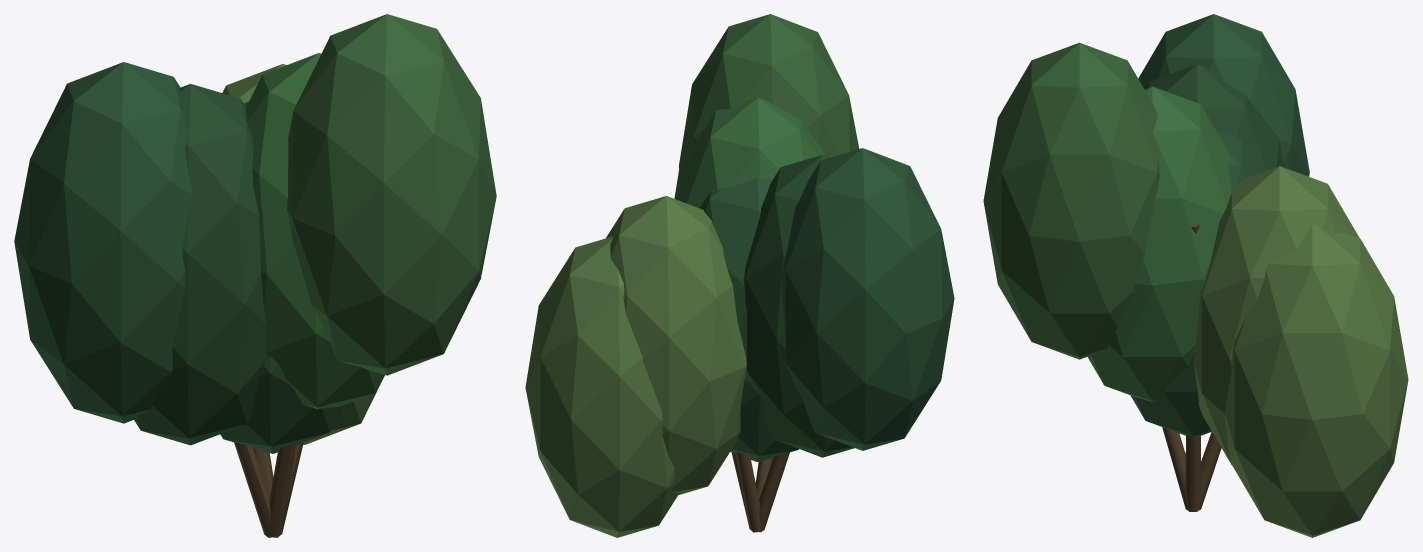
File: shrub-spreading.mid.glb
3 renders of one model, left to right at view 1: azimuth 30°, elevation 25°; view 2: azimuth 150°, elevation 25°; view 3: azimuth 270°, elevation 25°, orthographic. The views are drawn at different scales.
Parts seen in each view (by area): view 1: foliage, wood; view 2: foliage, wood; view 3: foliage, wood.
Part boxes in pixels (left/top/right/bottom): foliage: left=14, top=14, right=496, bottom=453; wood: left=234, top=442, right=303, bottom=537; foliage: left=525, top=14, right=954, bottom=537; wood: left=674, top=198, right=789, bottom=532; foliage: left=983, top=14, right=1408, bottom=537; wood: left=1162, top=223, right=1221, bottom=511.
Bounding box in the file's own units: 1.93 × 2.4 × 1.9.
